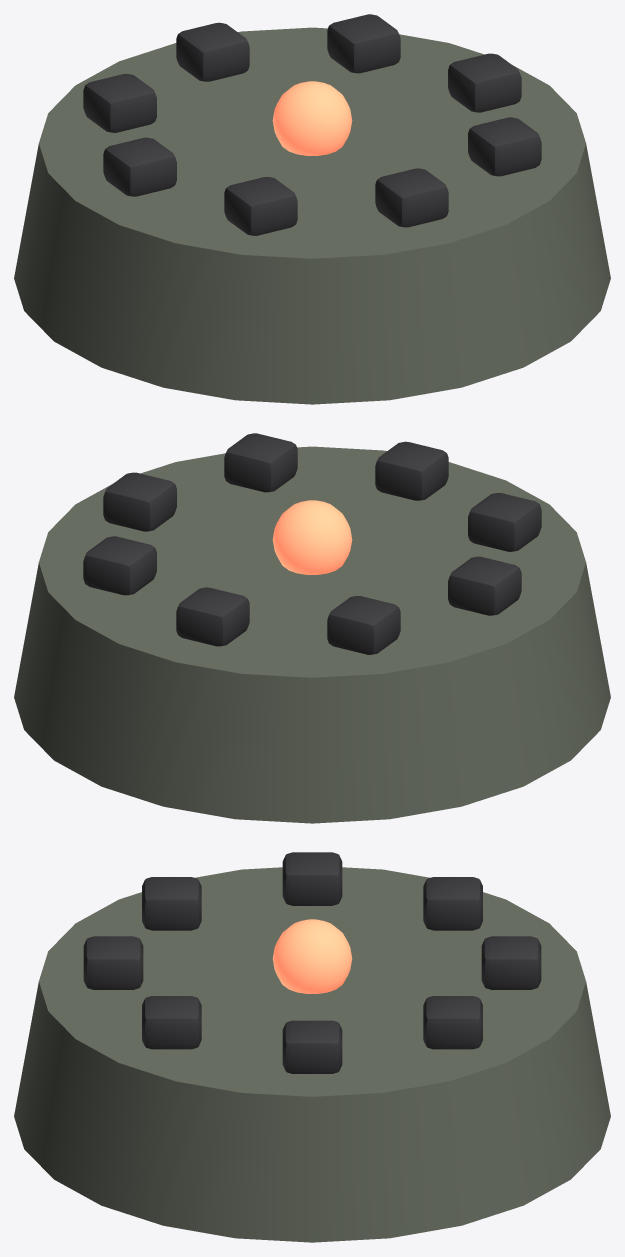
File: impulse.glb
The picture shows the model from 3 angles, top to bottom: view 1: azimuth 30°, elevation 25°; view 2: azimuth 150°, elevation 25°; view 3: azimuth 270°, elevation 25°; orthographic projection.
Parts seen in each view (by area): view 1: Body; view 2: Body; view 3: Body.
Boxes of the visible parts, box(x1,y1,x2,y2) form: Body: box(14, 14, 610, 404); Body: box(14, 433, 610, 823); Body: box(14, 852, 610, 1242).
Bounding box in the file's own units: 0.12 × 0.043 × 0.12.
